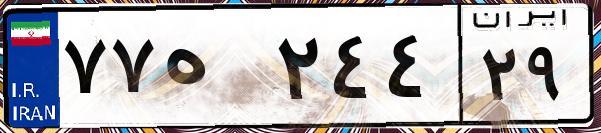2: (270, 28, 330, 110), (475, 38, 525, 113)
4: (385, 28, 445, 110), (330, 28, 385, 110)
7: (57, 26, 110, 100), (110, 28, 158, 98)
9: (525, 38, 570, 115)
ه: (158, 20, 270, 120)
